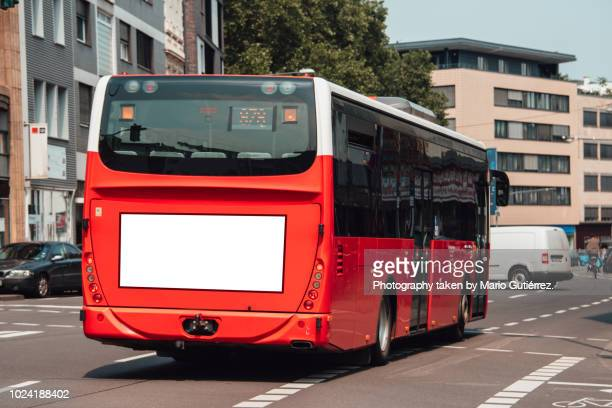bus: (79, 69, 498, 365)
van: (487, 225, 575, 290)
